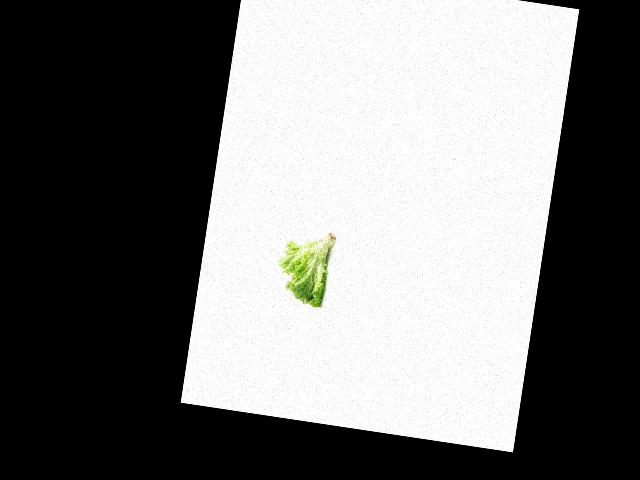lettuce: (272, 223, 337, 308)
